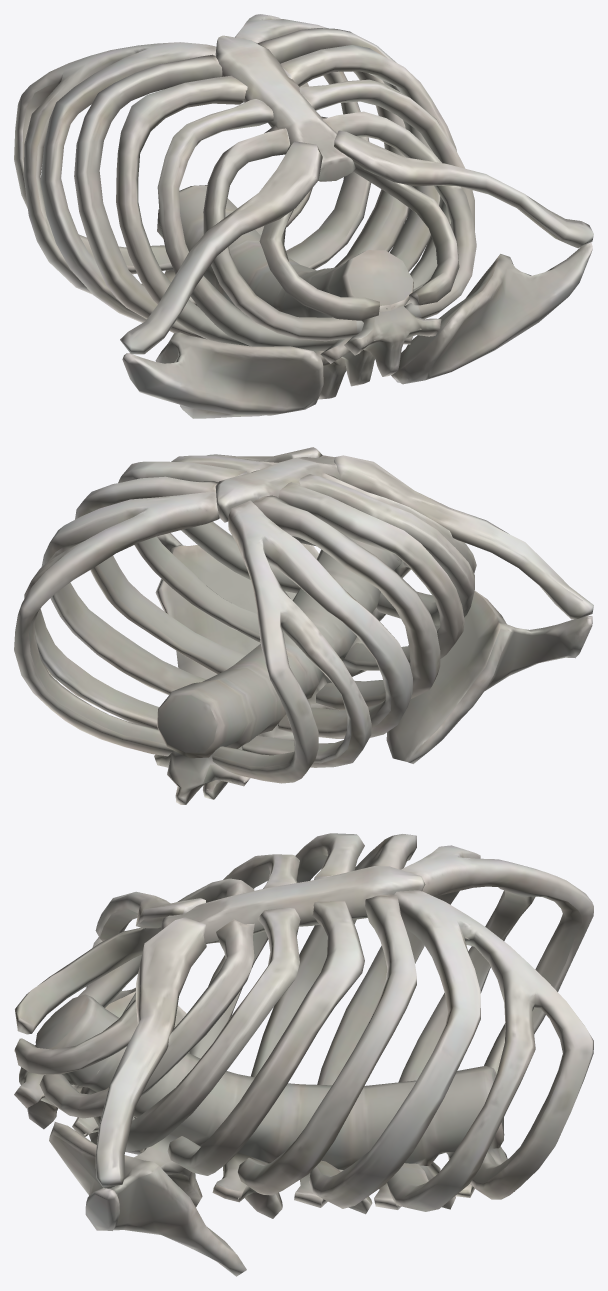
3 renders of one model, top to bottom at view 1: azimuth 30°, elevation 25°; view 2: azimuth 150°, elevation 25°; view 3: azimuth 270°, elevation 25°, orthographic. The views are drawn at different scales.
Parts seen in each view (by area): view 1: SM_RibCage_LOD0; view 2: SM_RibCage_LOD0; view 3: SM_RibCage_LOD0.
Part boxes in pixels (bbox=[...]): SM_RibCage_LOD0: bbox=[14, 14, 593, 418]; SM_RibCage_LOD0: bbox=[14, 447, 593, 804]; SM_RibCage_LOD0: bbox=[14, 833, 593, 1276].
Size of the model in its own units: 0.4446 by 0.2719 by 0.4171.
Materials: 1 (1 with a texture image).
